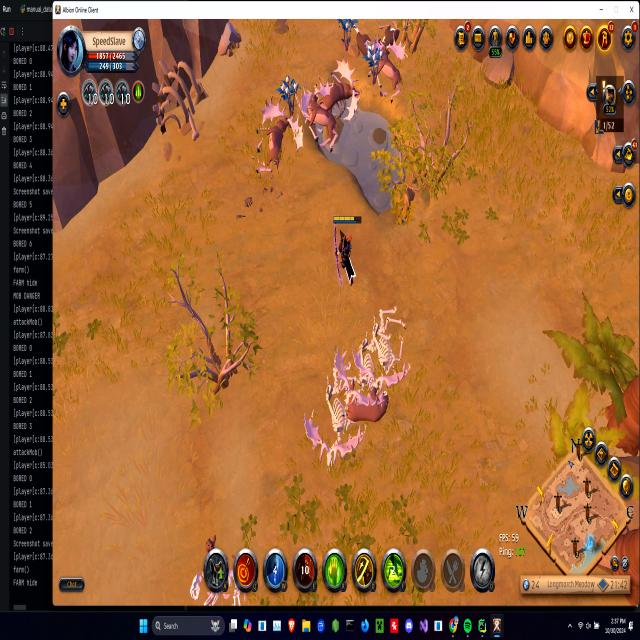hide: (276, 71, 300, 110), (364, 43, 386, 85), (337, 18, 359, 52)
mob: (253, 93, 304, 182), (301, 80, 340, 149), (344, 375, 394, 426), (320, 56, 361, 116), (378, 43, 406, 106), (353, 23, 371, 63), (382, 20, 402, 45)
red: (332, 213, 361, 288)
